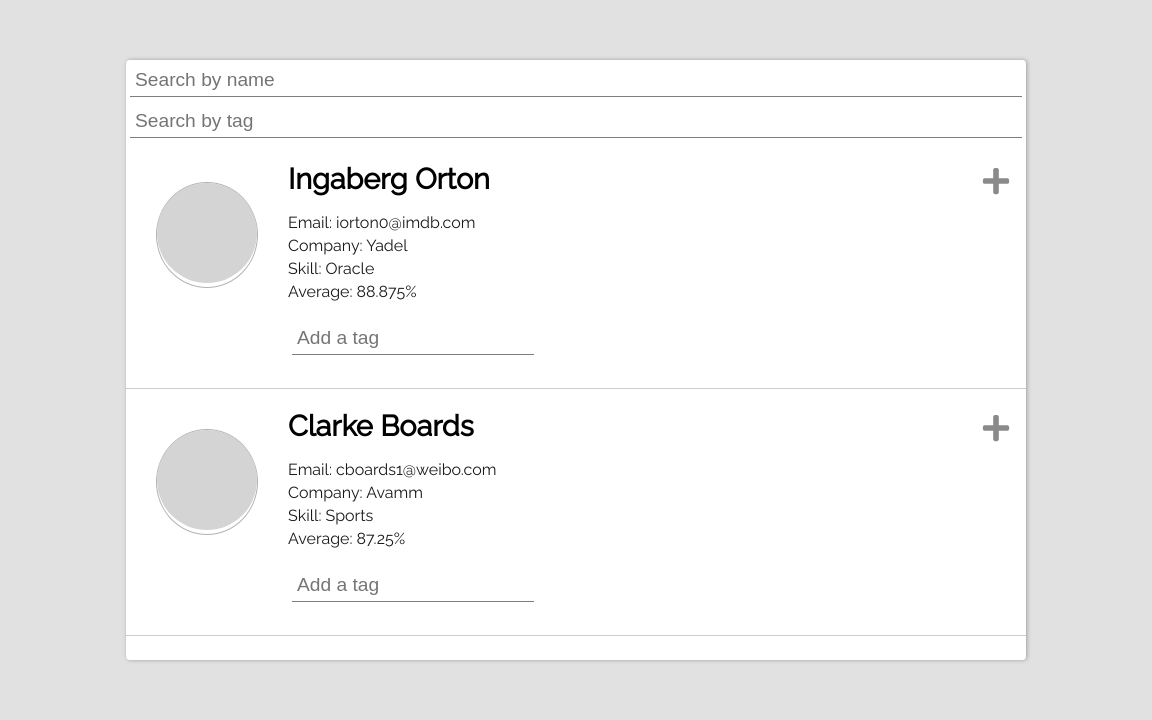
it: Students page › Adding a tag then search by tag
Note: Adding a tag on first list item
In the field with placeholder "Add a tag" below "88.875": (413, 338) [292,322,534,355], type "tag1"
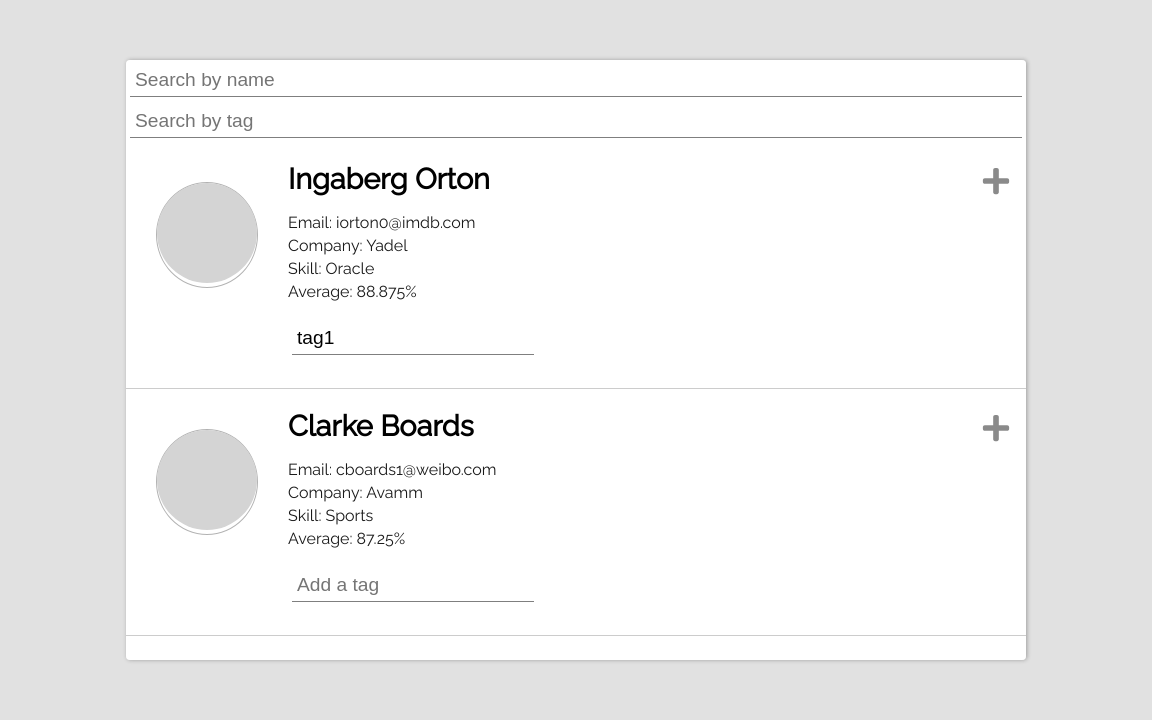
Press Enter in the field with placeholder "Add a tag", box [292,322,534,355]
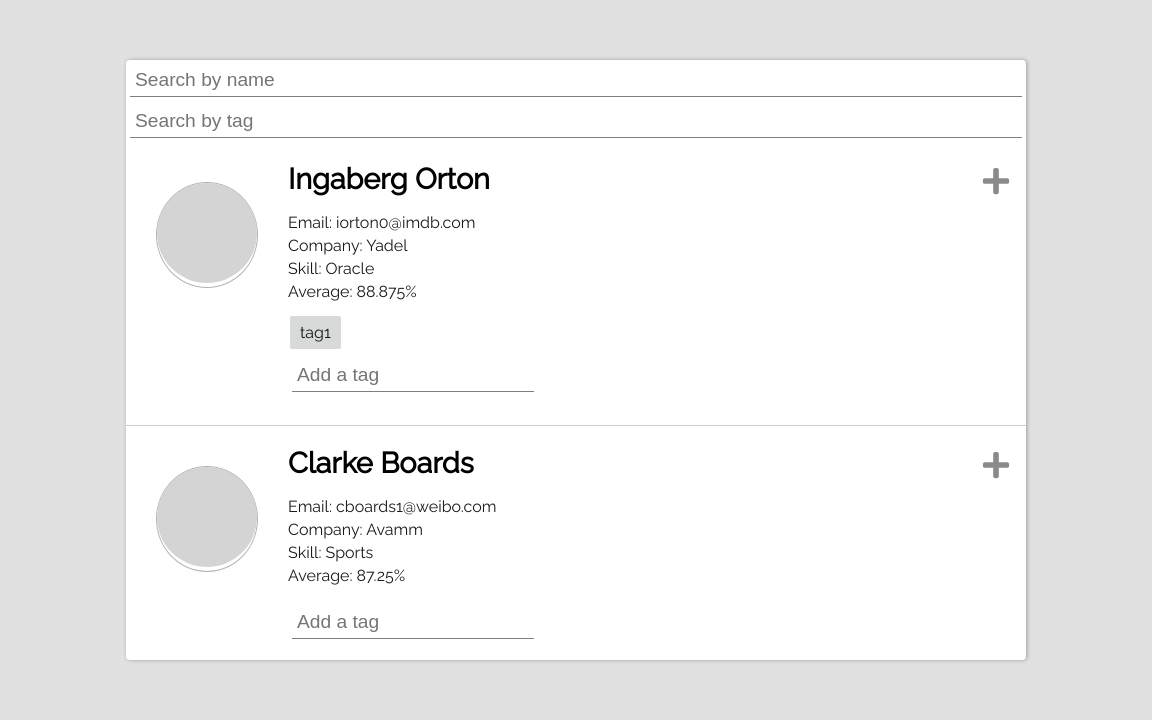
Note: Search by tag
In the field with placeholder "Search by tag": (576, 122) [130,105,1022,138], type "tag1"
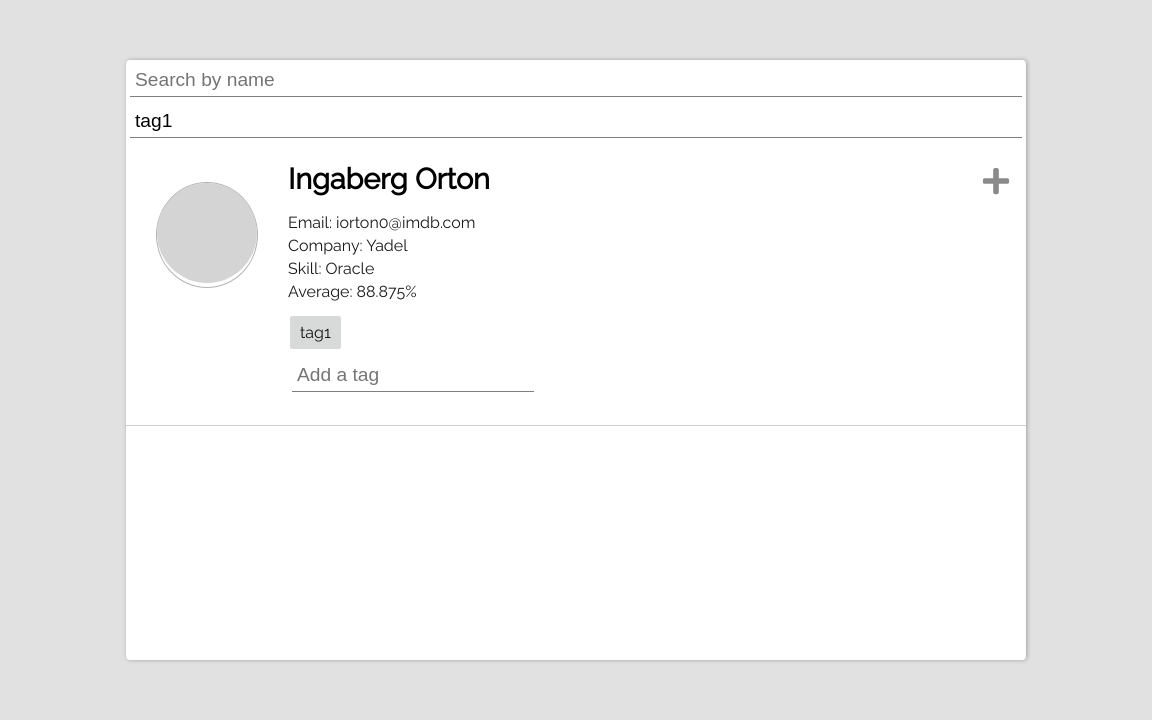
Expected: the number of elements with test id "student-card" is 1, [126,142,1026,426]
